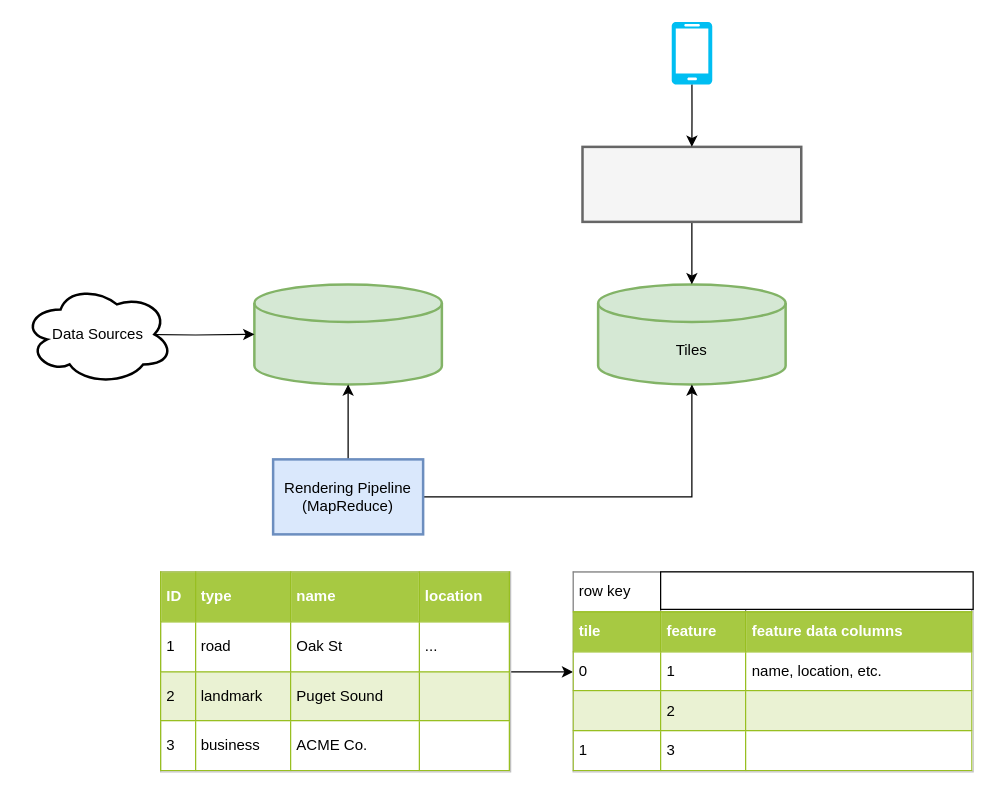
Some shapes in this 995 by 794 pixel diagram are drawn without their labels. Here are the shapes that lost their labels. From the top down, the box of each, then its label:
(581, 145, 802, 222): Maps Web Server
(252, 282, 442, 385): Features
(659, 571, 973, 609): feature column family
